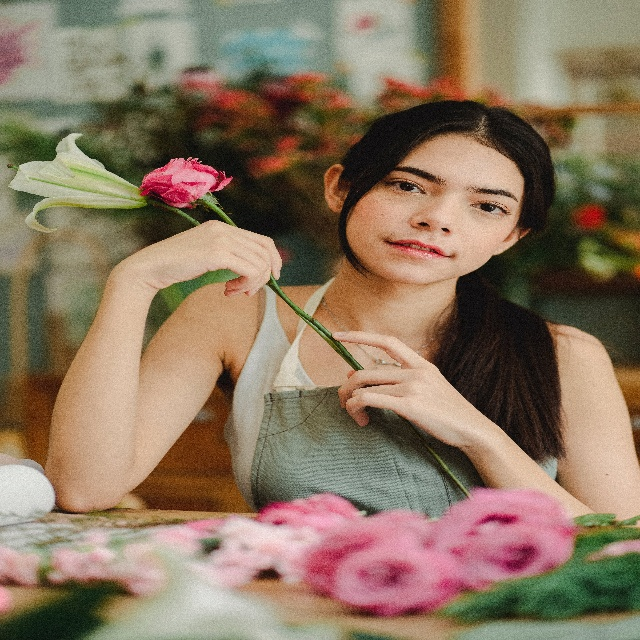Sin_guantes: (328, 329, 478, 445), (120, 230, 282, 305)
